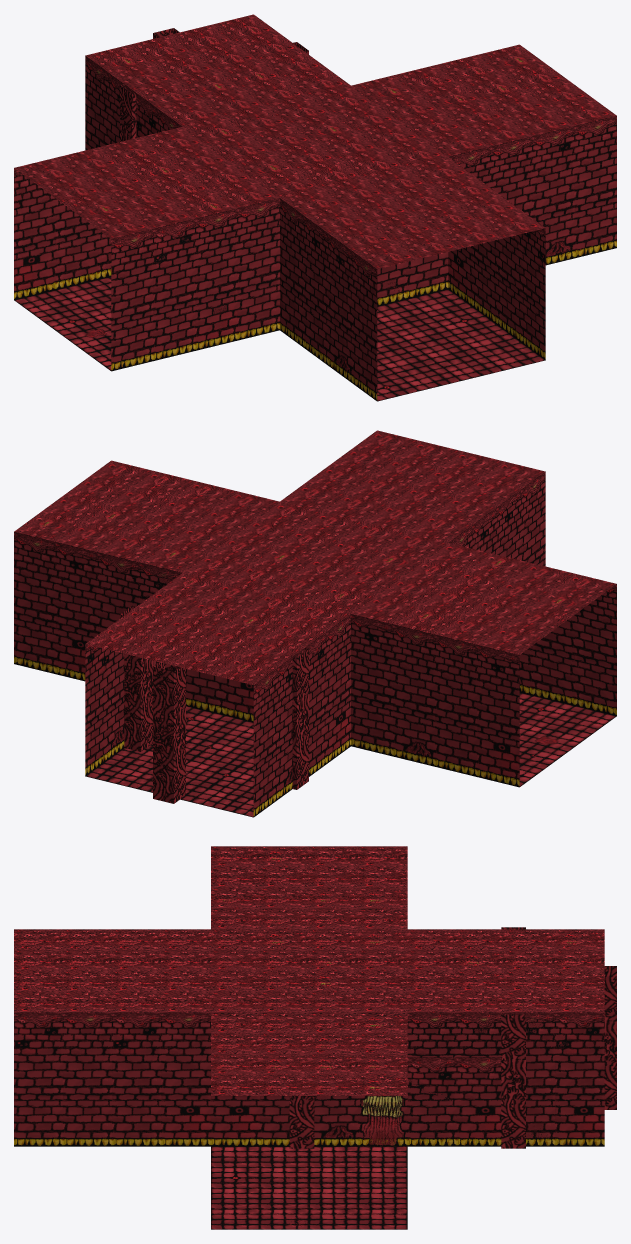
The model's file is salas.fbx.
The picture shows the model from 3 angles, top to bottom: view 1: azimuth 30°, elevation 25°; view 2: azimuth 150°, elevation 25°; view 3: azimuth 270°, elevation 25°; orthographic projection.
Visible parts, largest first — view 1: Intersection, Fork, Turn, Hall, Alley, CleanHall; view 2: Intersection, Fork, Turn, Hall, Alley, CleanHall, Pillar; view 3: Intersection, Turn, Fork, Hall, Alley, CleanHall, Pillar.
Part boxes in pixels (left/top/right/bottom): Intersection: left=28, top=14, right=616, bottom=401; Fork: left=14, top=17, right=616, bottom=371; Turn: left=117, top=31, right=616, bottom=306; Hall: left=118, top=17, right=405, bottom=197; Alley: left=86, top=18, right=348, bottom=125; CleanHall: left=216, top=55, right=399, bottom=161; Intersection: left=14, top=430, right=616, bottom=817; Fork: left=14, top=482, right=616, bottom=803; Turn: left=25, top=460, right=369, bottom=814; Hall: left=90, top=517, right=447, bottom=816; Alley: left=85, top=573, right=350, bottom=817; CleanHall: left=150, top=542, right=399, bottom=646; Pillar: left=153, top=662, right=185, bottom=803; Intersection: left=14, top=846, right=604, bottom=1229; Turn: left=211, top=929, right=604, bottom=1222; Fork: left=211, top=846, right=604, bottom=1229; Hall: left=211, top=927, right=604, bottom=1148; Alley: left=407, top=929, right=604, bottom=1146; CleanHall: left=309, top=929, right=506, bottom=1146; Pillar: left=604, top=966, right=616, bottom=1109.
Size of the model in its own units: 1200 by 300 by 1225.
